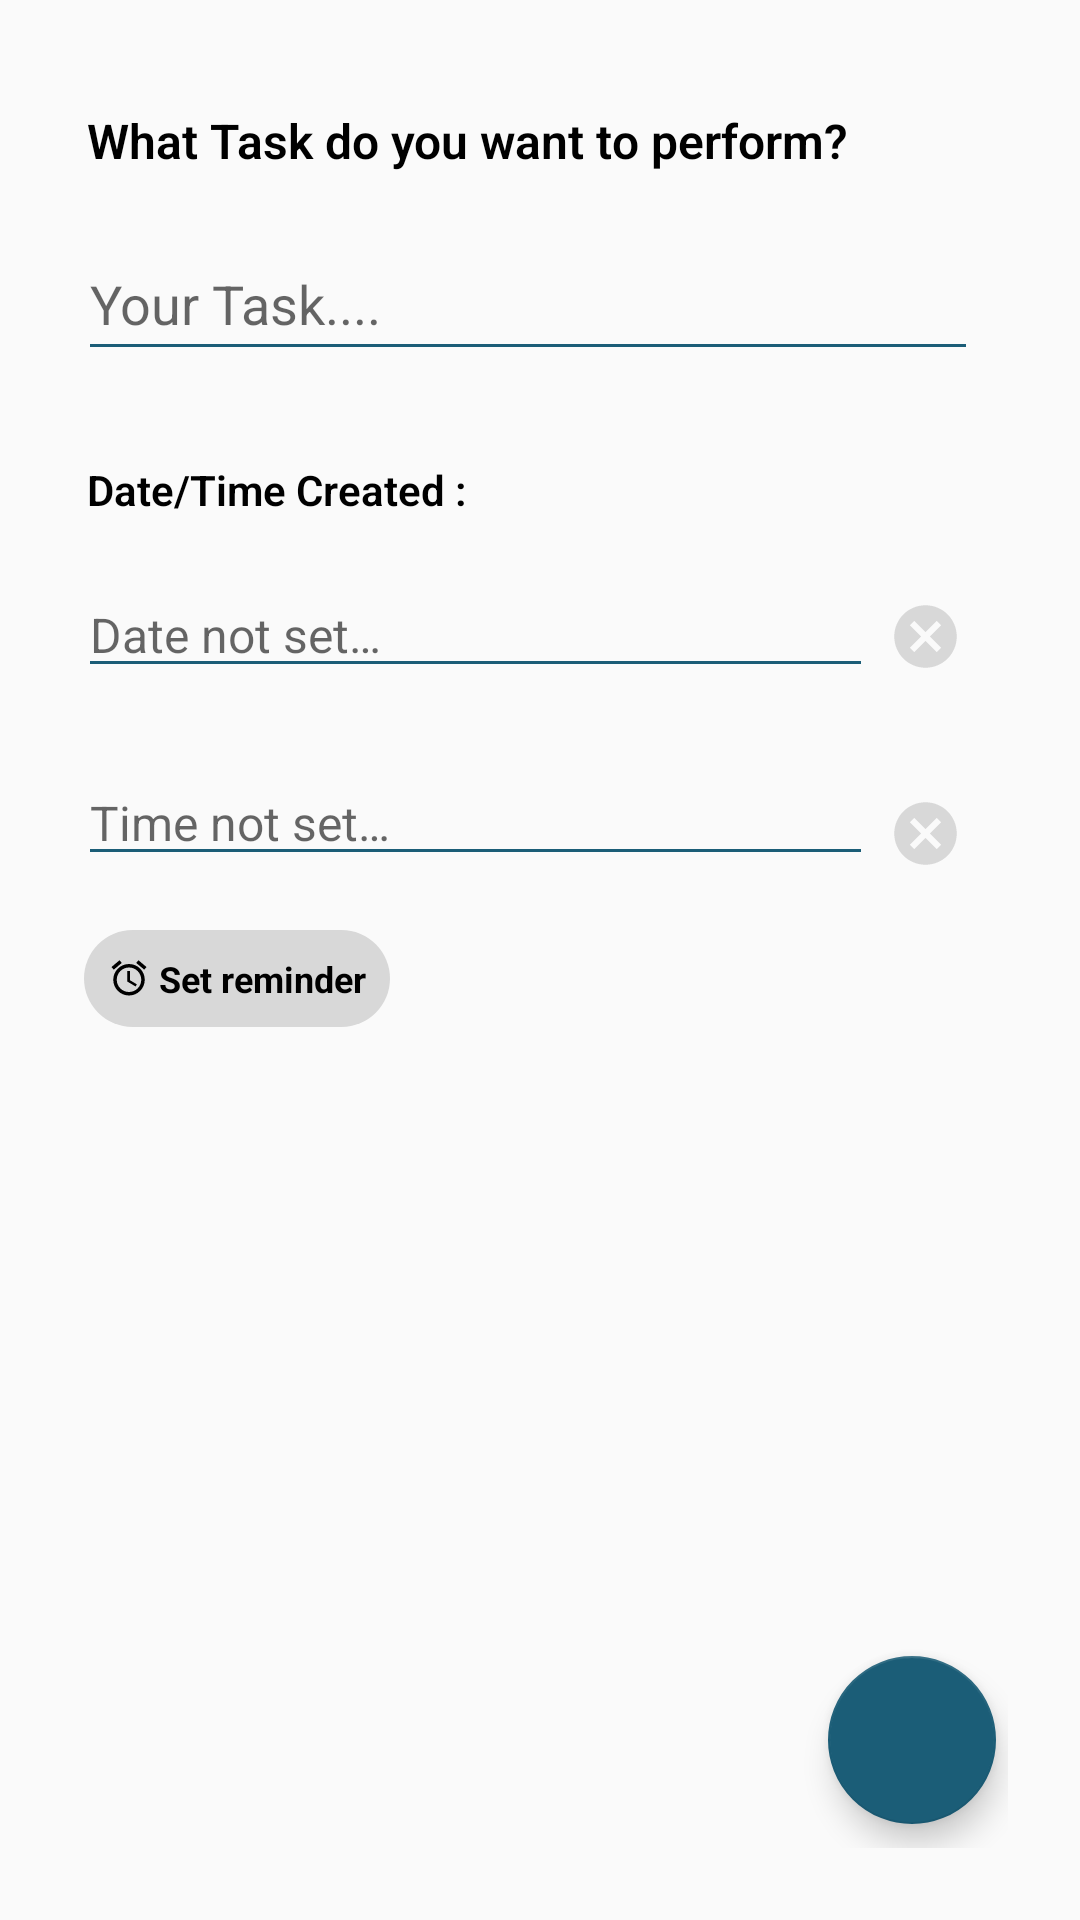

Named icons in this screenshot (1080 x 1920) and their bounding boxes, {"left": x1, "top": y1, "right": x2, "bottom": y2}:
cancel: {"left": 894, "top": 605, "right": 957, "bottom": 668}, {"left": 894, "top": 802, "right": 957, "bottom": 865}
